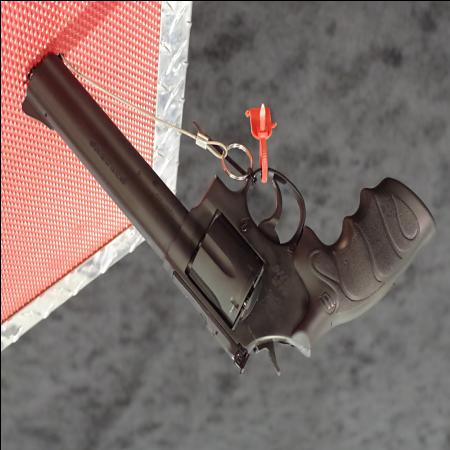Pistol: (27, 46, 434, 378)
